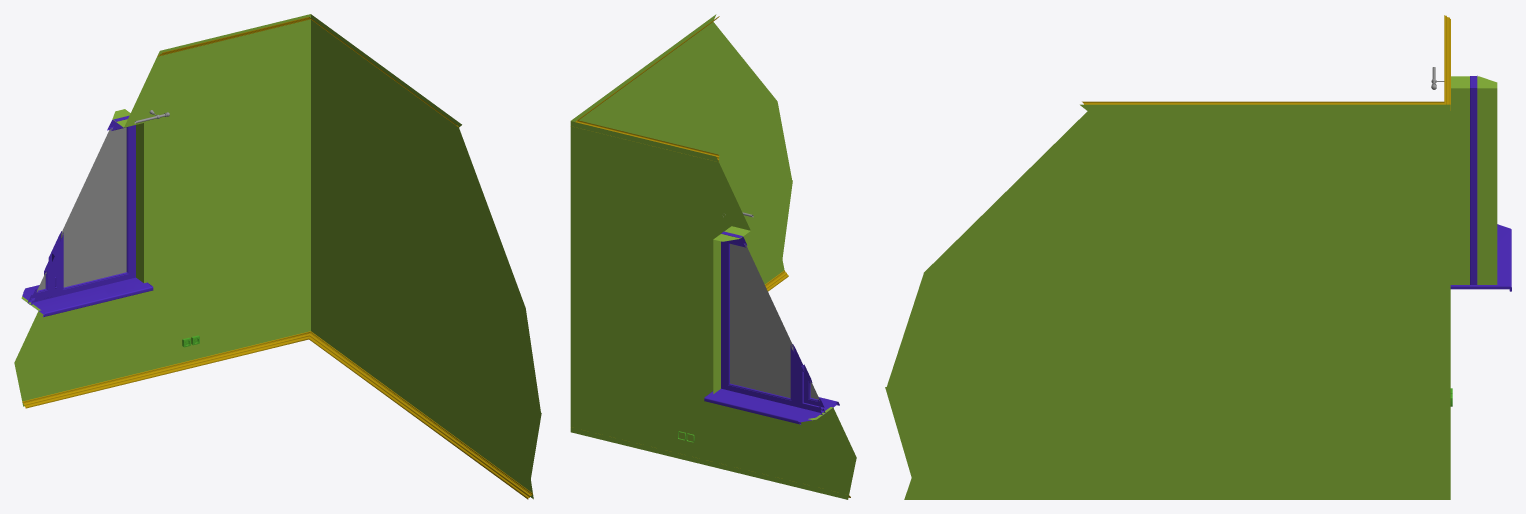
The model's file is WallPart3.FBX.
The picture shows the model from 3 angles, left to right: view 1: azimuth 30°, elevation 25°; view 2: azimuth 150°, elevation 25°; view 3: azimuth 270°, elevation 25°; orthographic projection. The views are drawn at different scales.
Parts seen in each view (by area): view 1: Room_Unwrapped; view 2: Room_Unwrapped; view 3: Room_Unwrapped.
Part boxes in pixels (x1,y1,x2,y2): Room_Unwrapped: [14, 14, 541, 499]; Room_Unwrapped: [570, 14, 856, 499]; Room_Unwrapped: [885, 15, 1511, 499].
Size of the model in its own units: 337 by 350 by 503.
